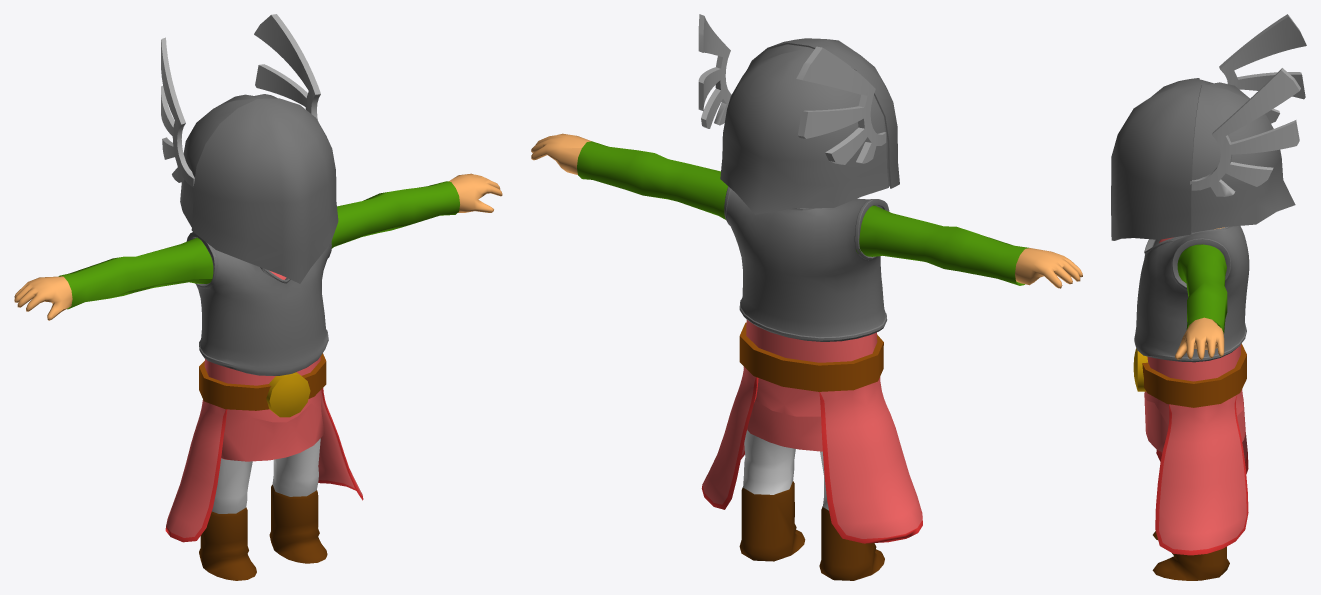
Rendered from lonkle.dae.
3 views of the same model, side by side, from view 1: azimuth 30°, elevation 25°; view 2: azimuth 150°, elevation 25°; view 3: azimuth 270°, elevation 25° (orthographic). The views are drawn at different scales.
Parts seen in each view (by area): view 1: skpB8E (×18); view 2: skpB8E (×18); view 3: skpB8E (×14).
Part boxes in pixels (box(x1,y1,x2,y2)): skpB8E (×18): box(14, 14, 502, 580); skpB8E (×18): box(531, 14, 1082, 580); skpB8E (×14): box(1111, 14, 1306, 580).
Size of the model in its own units: 1.72 by 0.5883 by 1.69.
